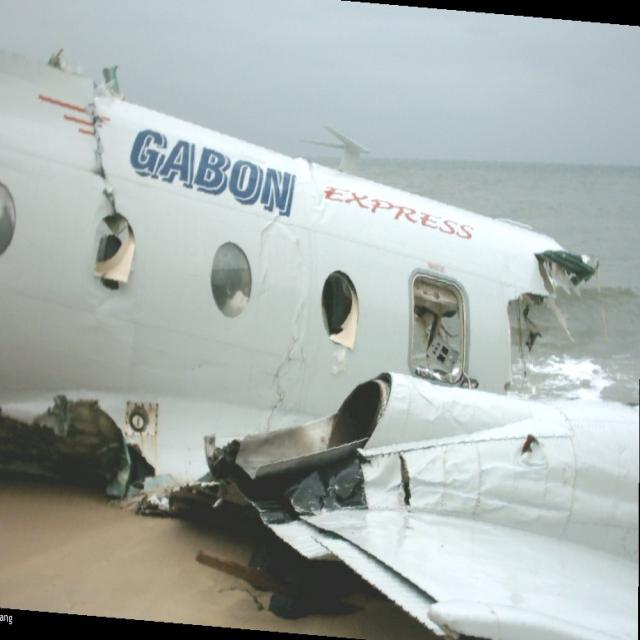crack: (264, 335, 306, 435), (92, 97, 115, 221), (258, 213, 289, 282), (397, 458, 415, 512)
